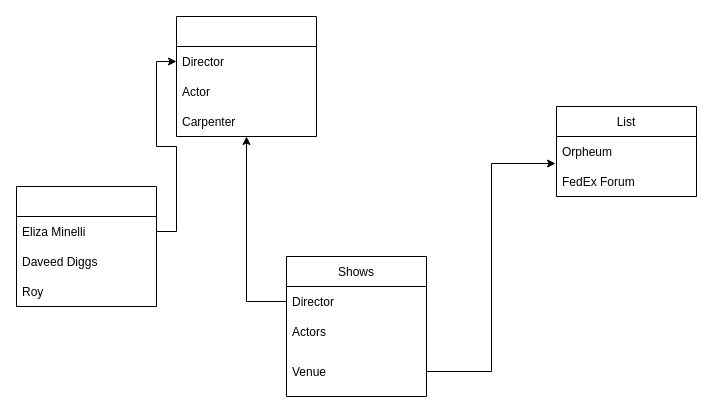
Image size: 713x413. Some labels were removed from this diagram. The box of each missing label's shape, as (x1, y1, x2, y2) in pixels:
Jobs: (176, 16, 316, 136)
People: (16, 186, 156, 306)
